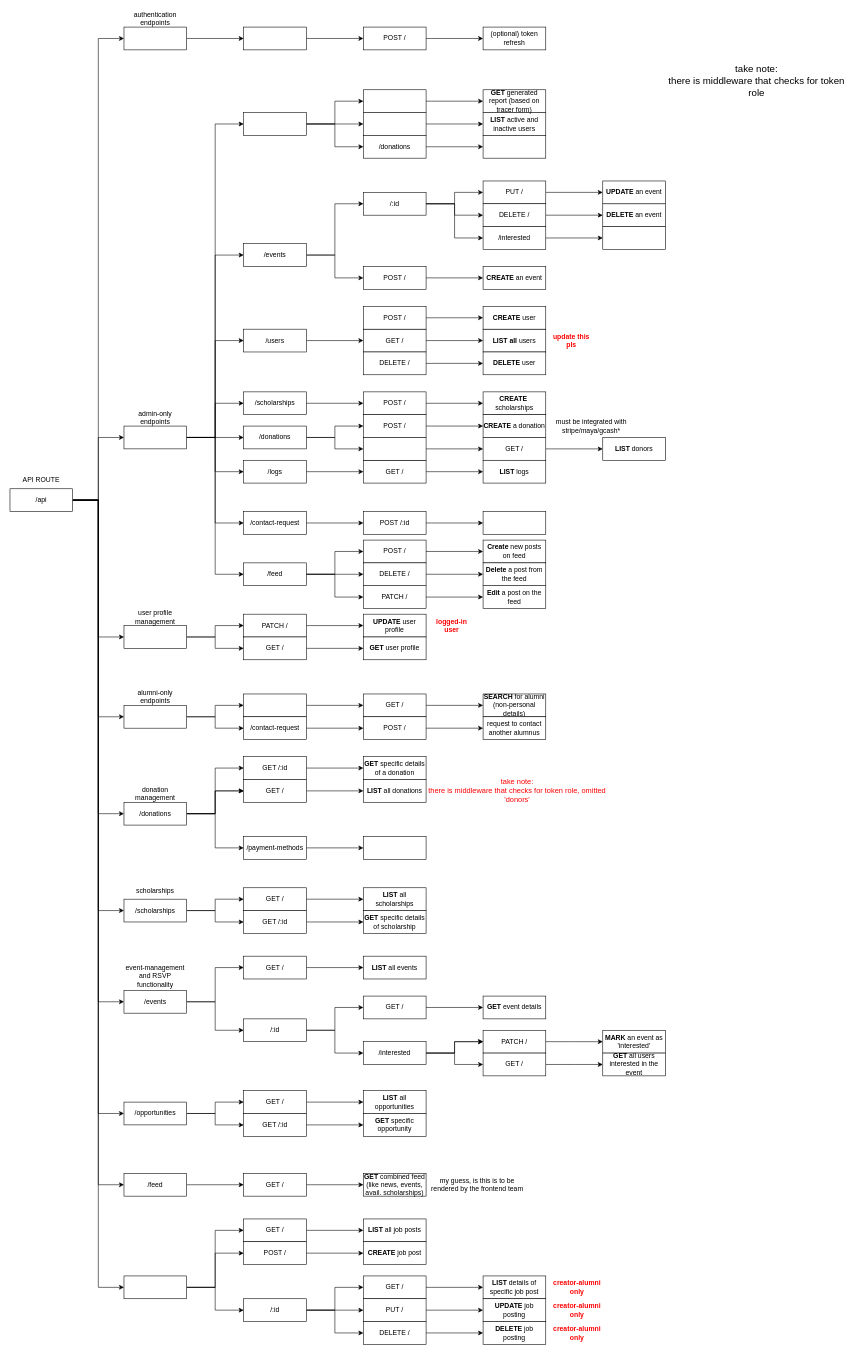
The diagram is 864 pixels wide and 1354 high, and some of its shapes have lost their labels. The shapes that lost their labels are listed below. From the top down, each one's centre as x and y in pixels, then its label:
the point at 155,38: /auth
the point at 274,38: /refresh
the point at 394,101: /tracer
the point at 274,123: /reports
the point at 394,123: /active-users
the point at 514,146: LIST donation progresses
the point at 633,237: GET all interested users in the event
the point at 155,437: /admin
the point at 394,448: /donors
the point at 514,522: contact request approval to an alumni
the point at 155,636: /profile
the point at 155,716: /alumni
the point at 274,705: /search
the point at 394,847: webhooks bahala na
the point at 155,1287: /jobs
